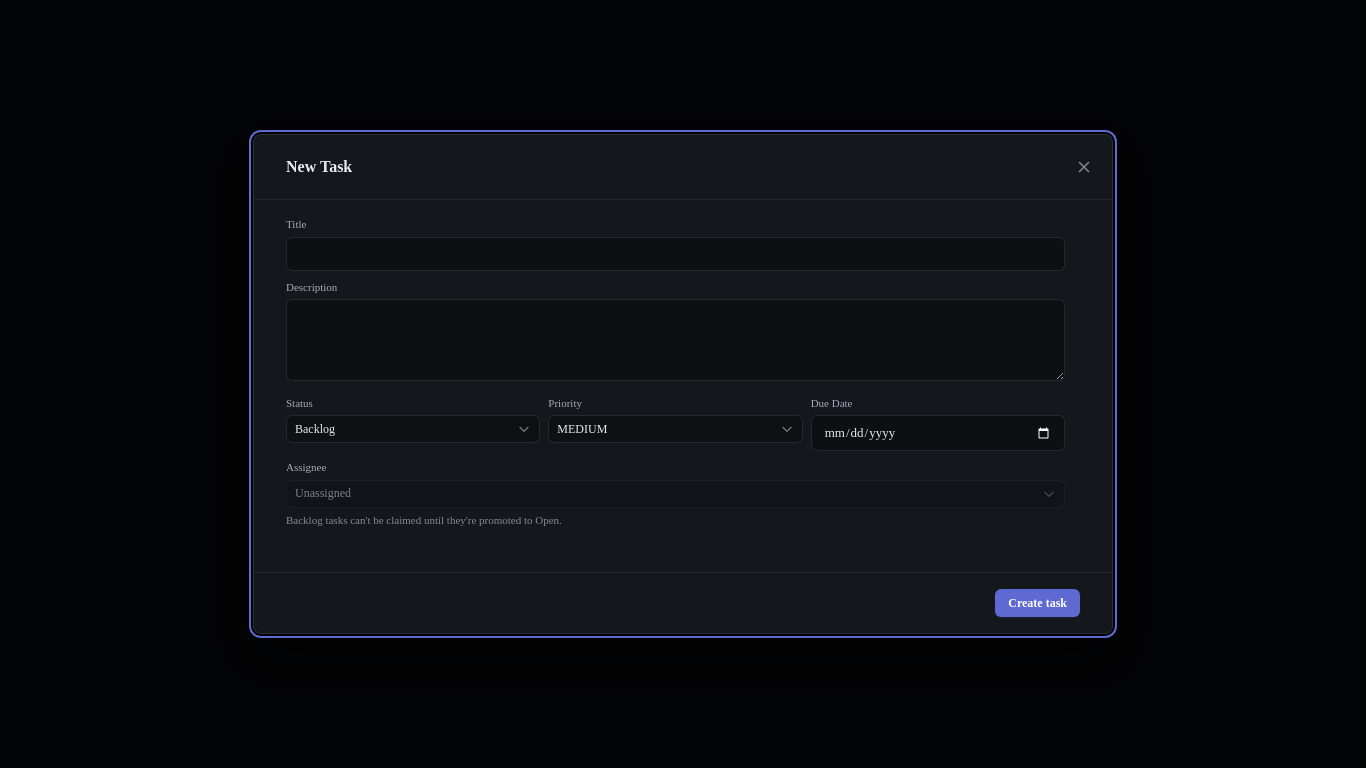
Test: NewTaskModal -- Assignee guard while status is backlog › re-enables Assignee, and clears the hint, when switched to Open
Click the dropdown named "Status" at (413, 429), box [286,415,540,443]
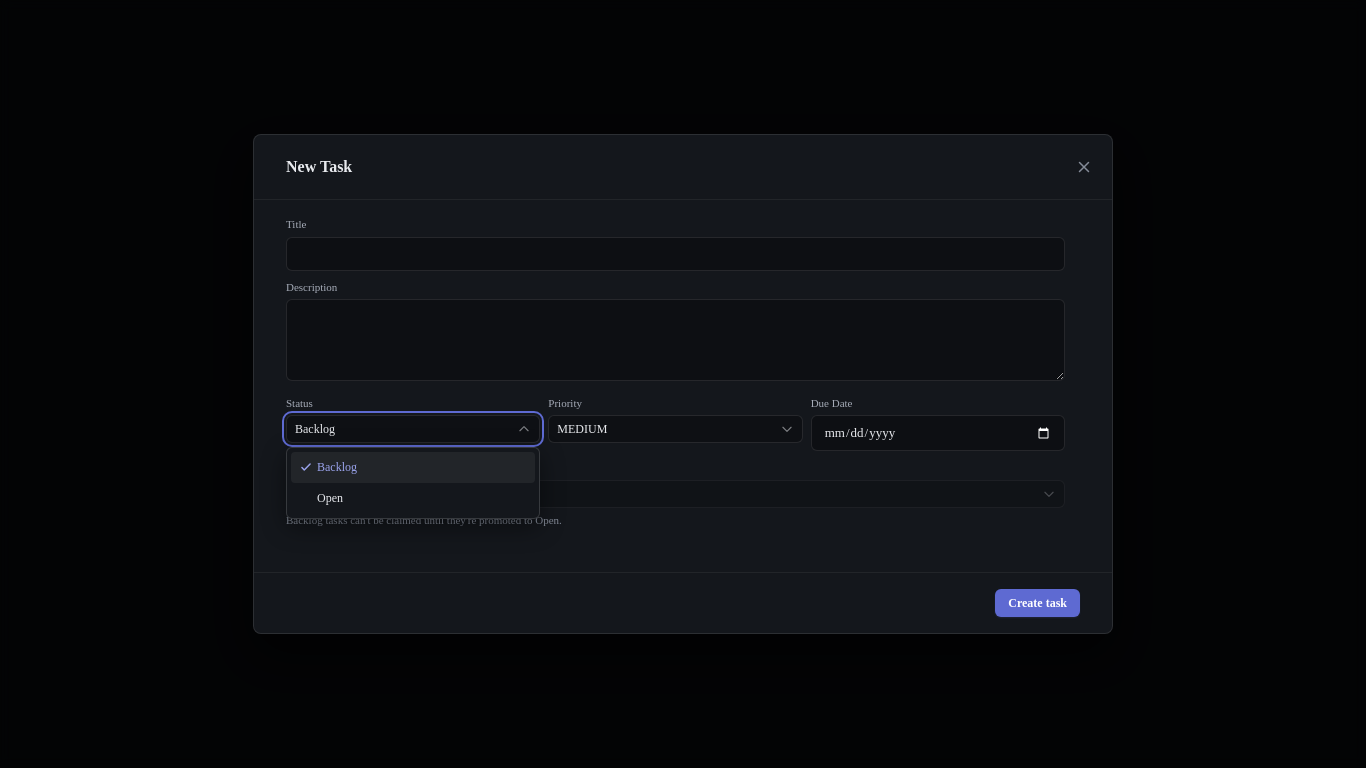
Click the option "Open" at (330, 498), box [317,491,343,505]
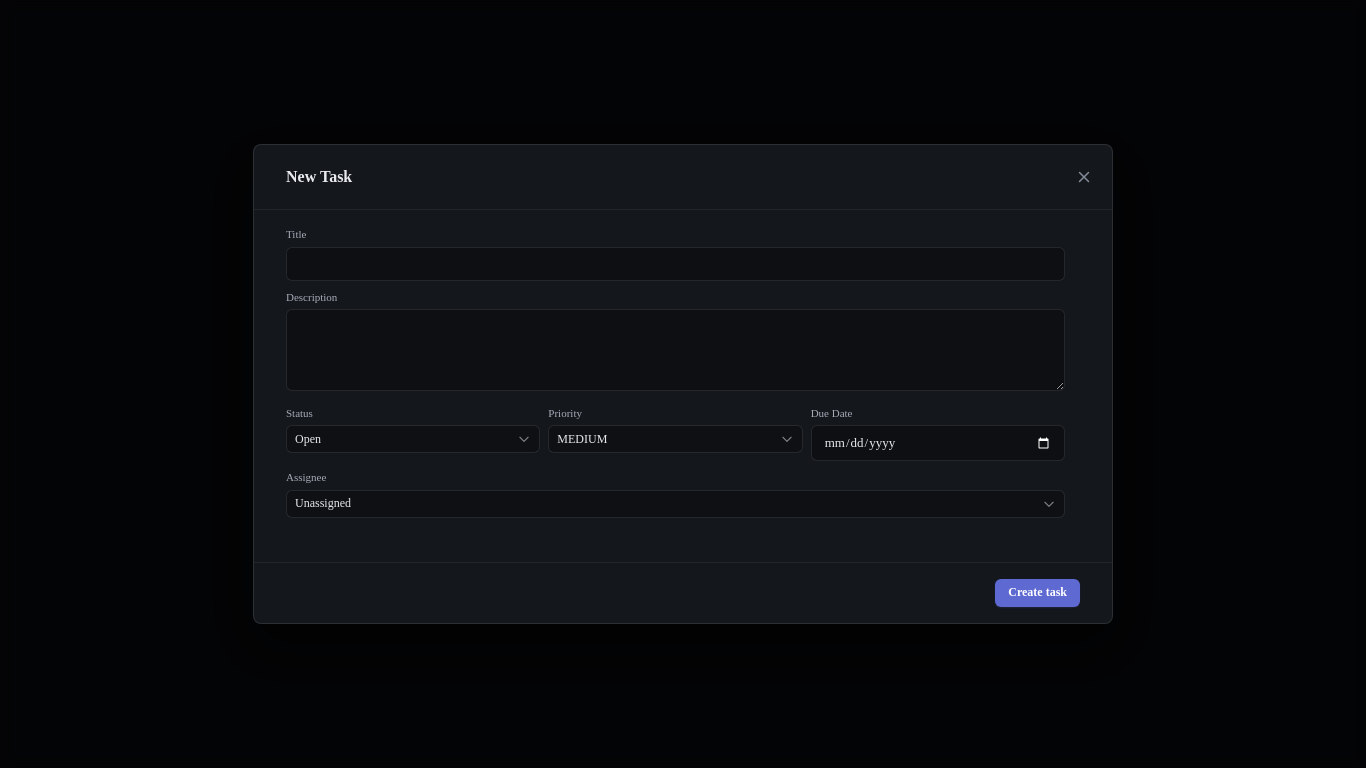
Now the text "Backlog tasks can't be claimed" is gone
